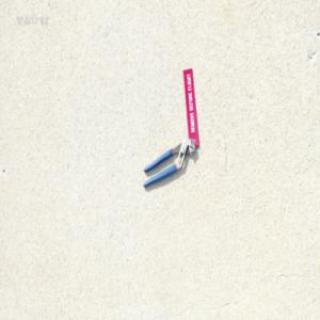LuggageTagtrack_idkeyframe: (181, 67, 199, 147)
Pliertrack_idkeyframe: (141, 136, 195, 188)
